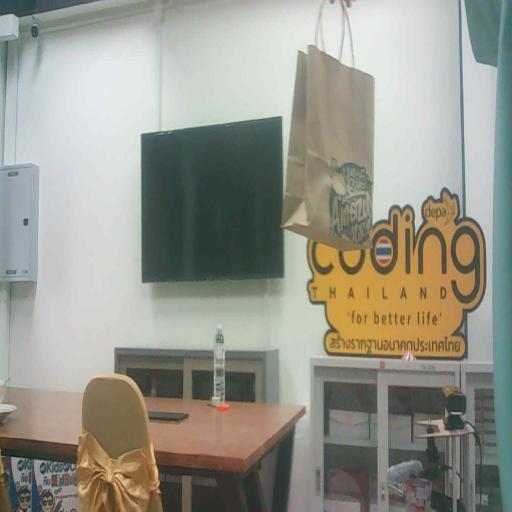bag: (287, 40, 372, 256)
